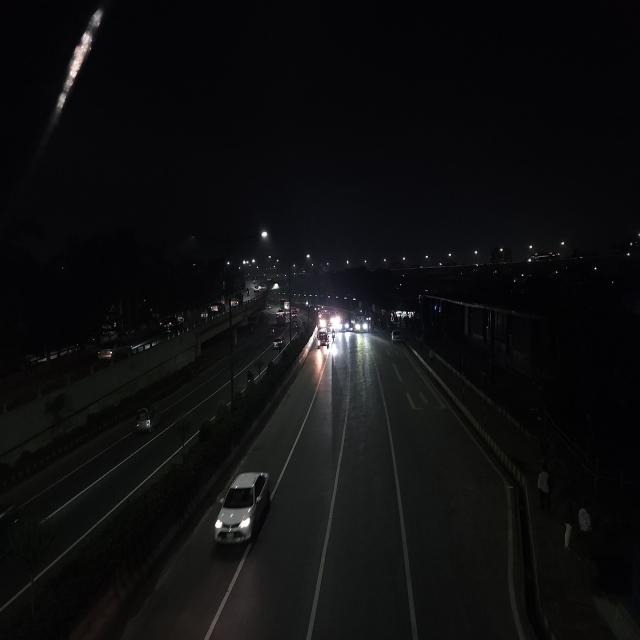bus: (352, 312, 368, 332), (336, 312, 350, 332), (276, 310, 286, 326)
car: (210, 465, 274, 556), (96, 342, 128, 362), (156, 312, 184, 334), (390, 327, 404, 347), (271, 333, 285, 351), (316, 328, 328, 349), (208, 301, 223, 317), (230, 296, 241, 308)
cng: (133, 400, 159, 437)
motorcycle: (245, 368, 259, 390), (331, 328, 336, 342)
pedestrian: (535, 460, 555, 513)
